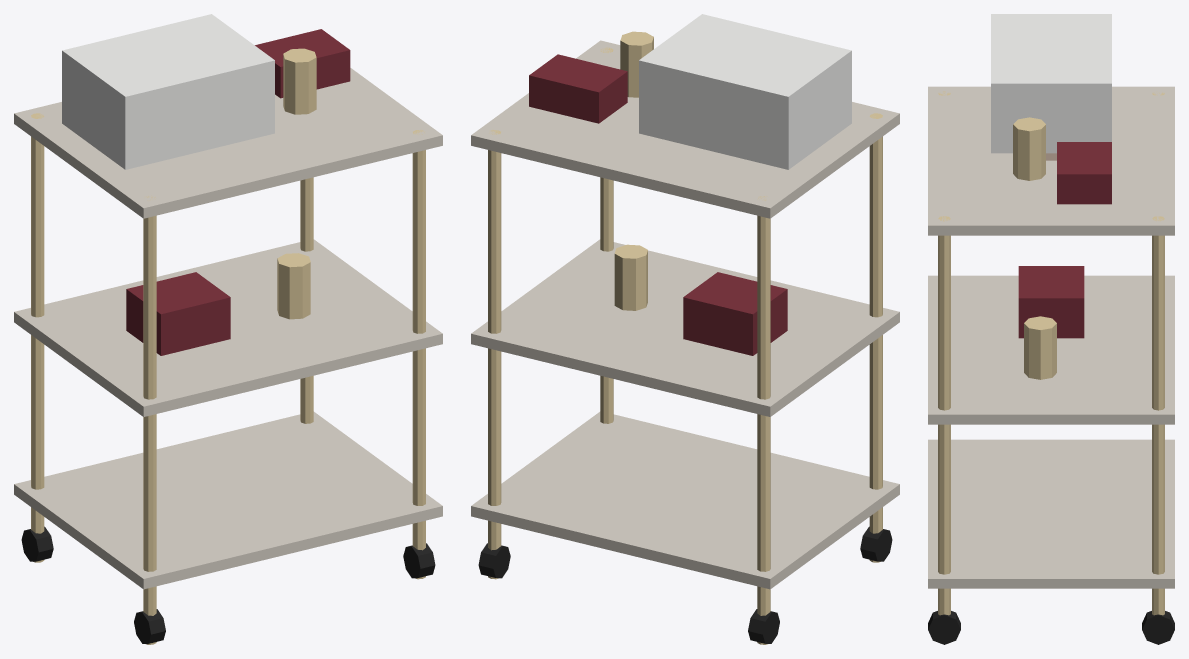
The model's file is cart_limpeza_pele.glb.
3 views of the same model, side by side, from view 1: azimuth 30°, elevation 25°; view 2: azimuth 150°, elevation 25°; view 3: azimuth 270°, elevation 25° (orthographic). The views are drawn at different scales.
Visible parts, largest first — view 1: cart_limpeza_pele; view 2: cart_limpeza_pele; view 3: cart_limpeza_pele.
Part boxes in pixels (bbox=[...]): cart_limpeza_pele: bbox=[14, 14, 442, 644]; cart_limpeza_pele: bbox=[471, 14, 899, 644]; cart_limpeza_pele: bbox=[928, 14, 1174, 644].
Bounding box in the file's own units: 0.6 × 1.01 × 0.45.
